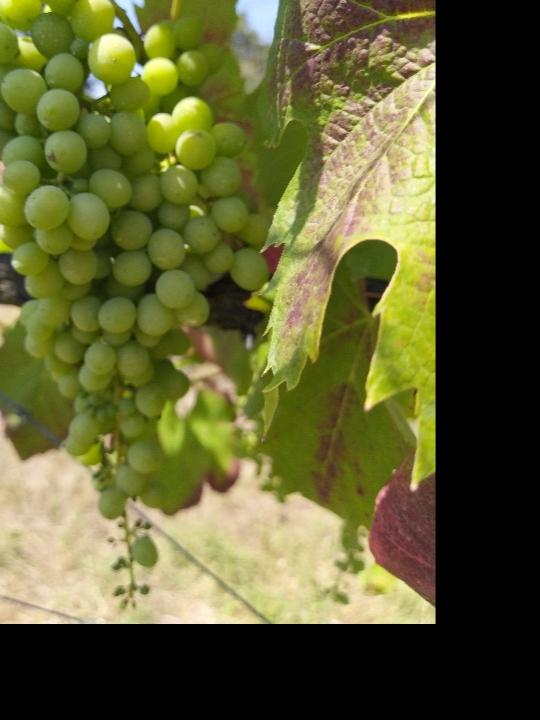grape: (0, 0, 267, 615)
